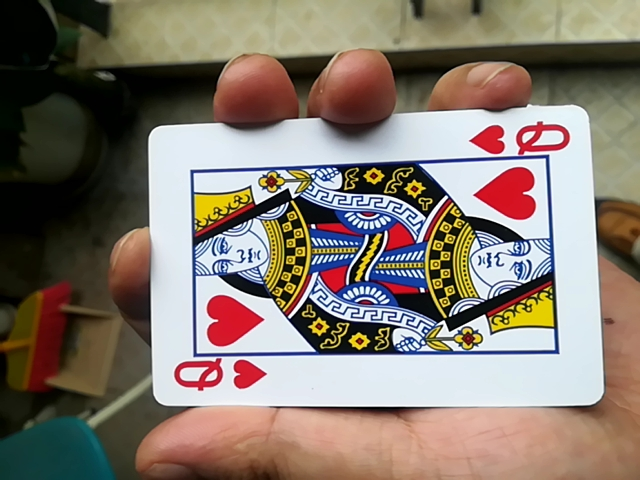hx q: (136, 103, 602, 421)
